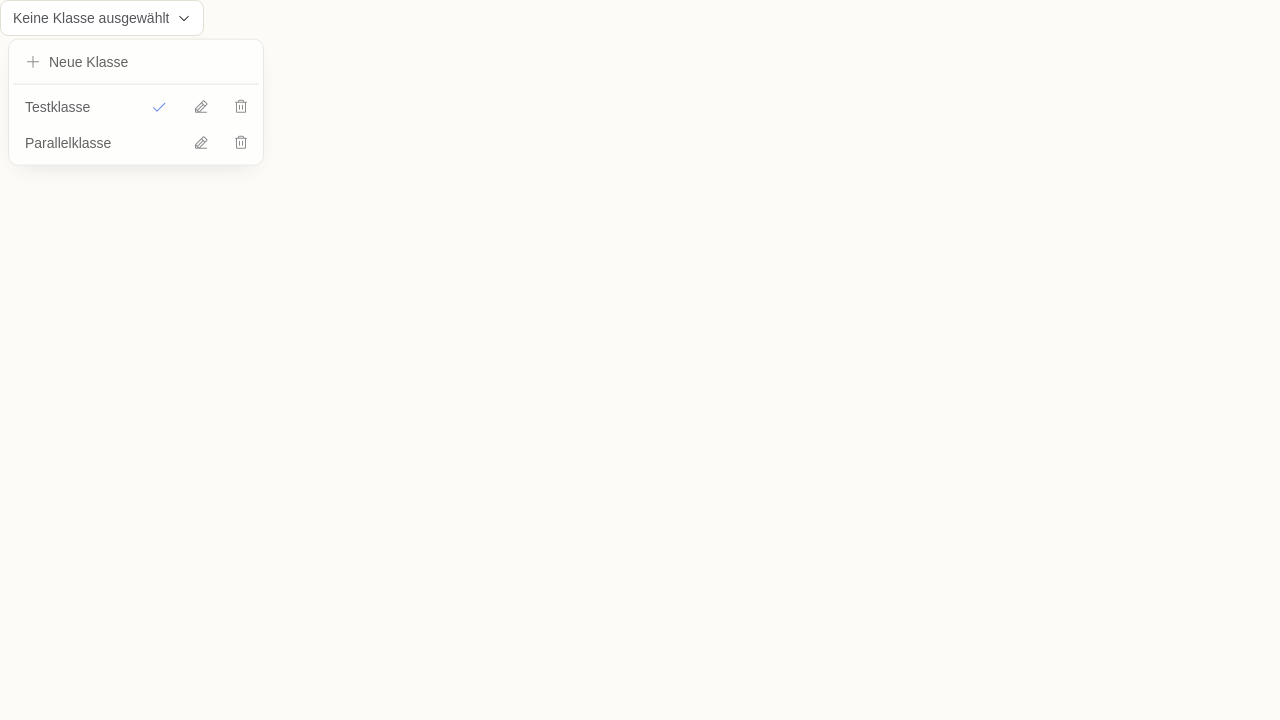
HeaderClassMenu › says that no class is open and offers to create one
Click the button "Keine Klasse ausgewählt" at (102, 18), box x1=0 y1=0 x2=204 y2=36
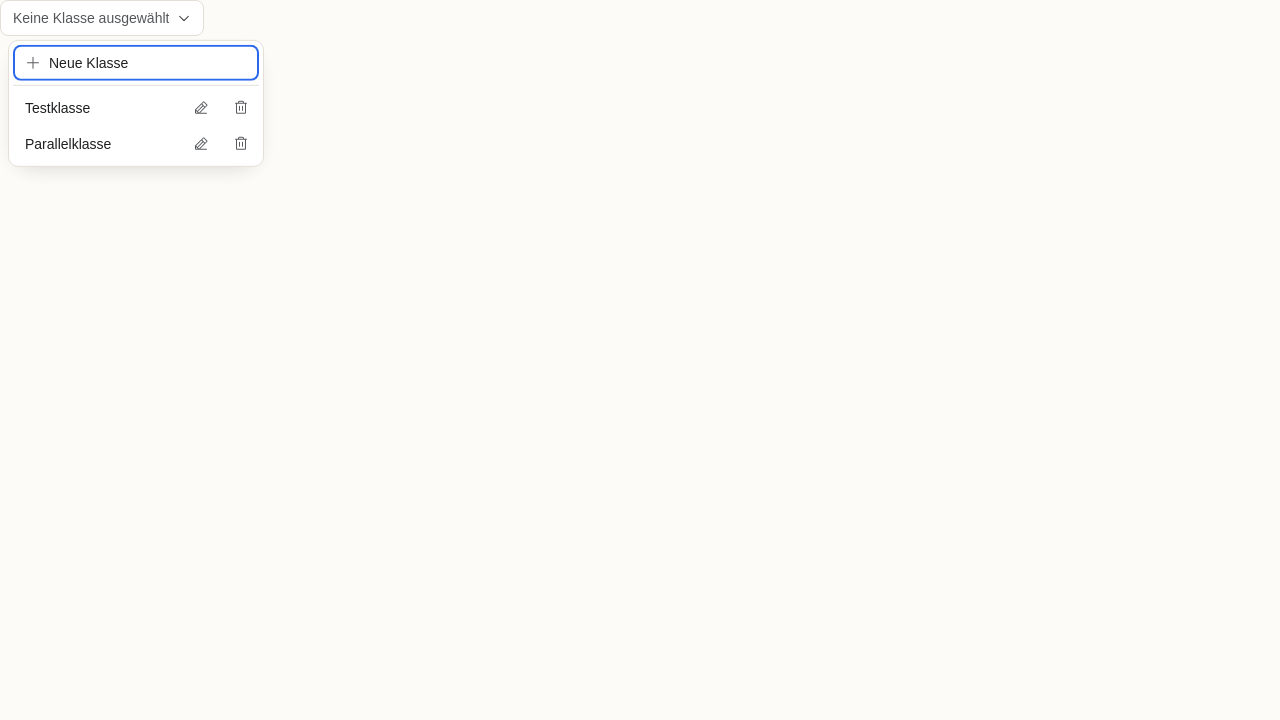
Click the button "Neue Klasse" at (136, 63), box x1=13 y1=45 x2=259 y2=81
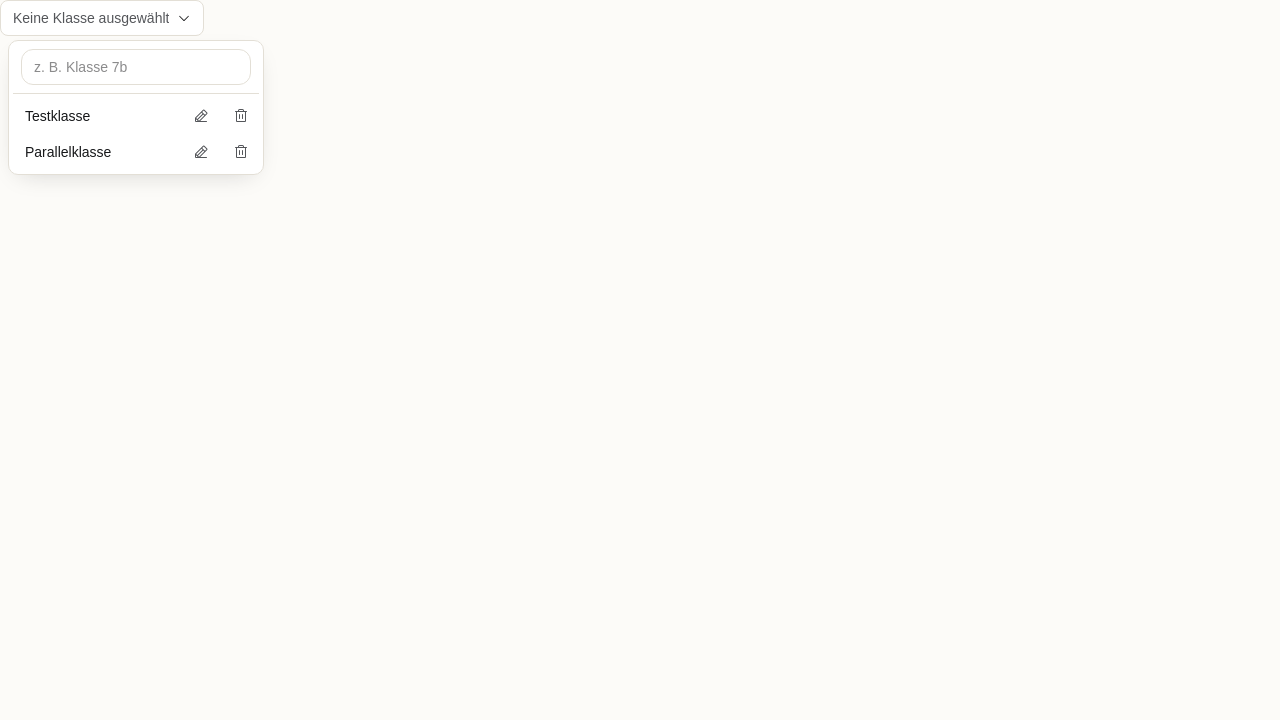
Check: the field labelled "z. B. Klasse 7b" is shown, box x1=21 y1=49 x2=251 y2=85
